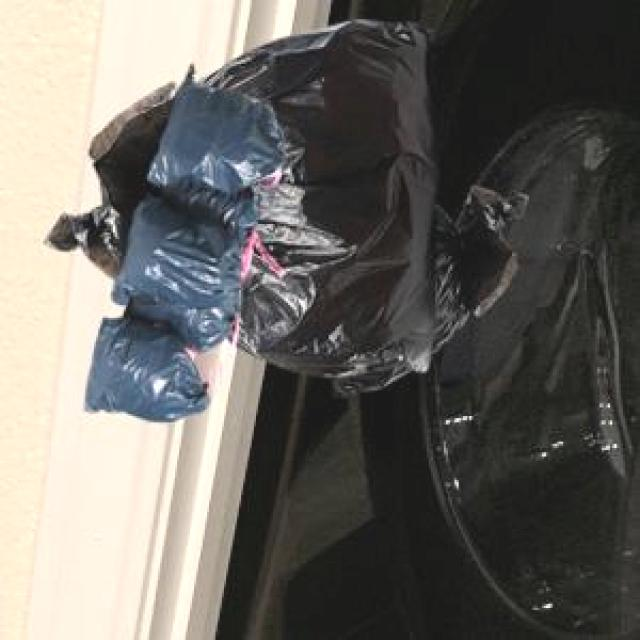Trashbag: (144, 58, 283, 208), (110, 199, 236, 315), (84, 332, 201, 426)
